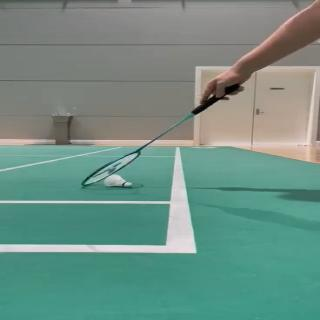Shuttle: (104, 174, 132, 188)
